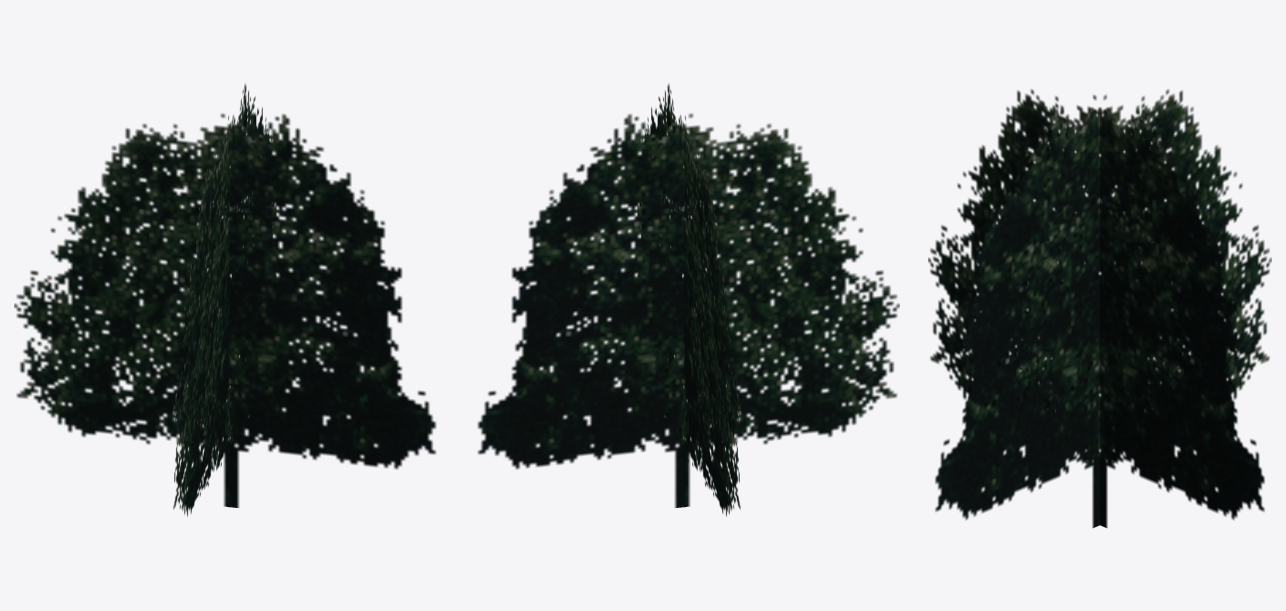
Rendered from tree120.glb.
3 renders of one model, left to right at view 1: azimuth 30°, elevation 25°; view 2: azimuth 150°, elevation 25°; view 3: azimuth 270°, elevation 25°, orthographic. The views are drawn at different scales.
Parts seen in each view (by area): view 1: tree120; view 2: tree120; view 3: tree120.
Part boxes in pixels (left/top/right/bottom): tree120: left=14, top=83, right=436, bottom=516; tree120: left=477, top=83, right=899, bottom=516; tree120: left=928, top=89, right=1271, bottom=527.
Bounding box in the file's own units: 2.78 × 3.99 × 2.78.
1 material, 1 textured.
